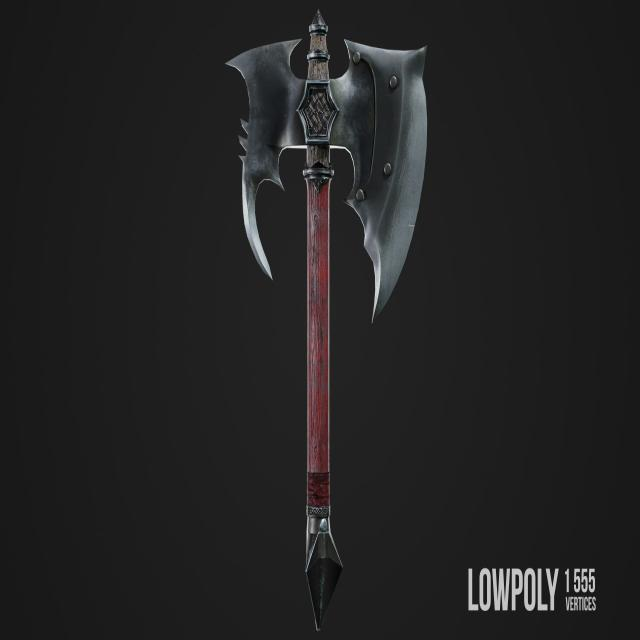Gun: (197, 0, 442, 628)
